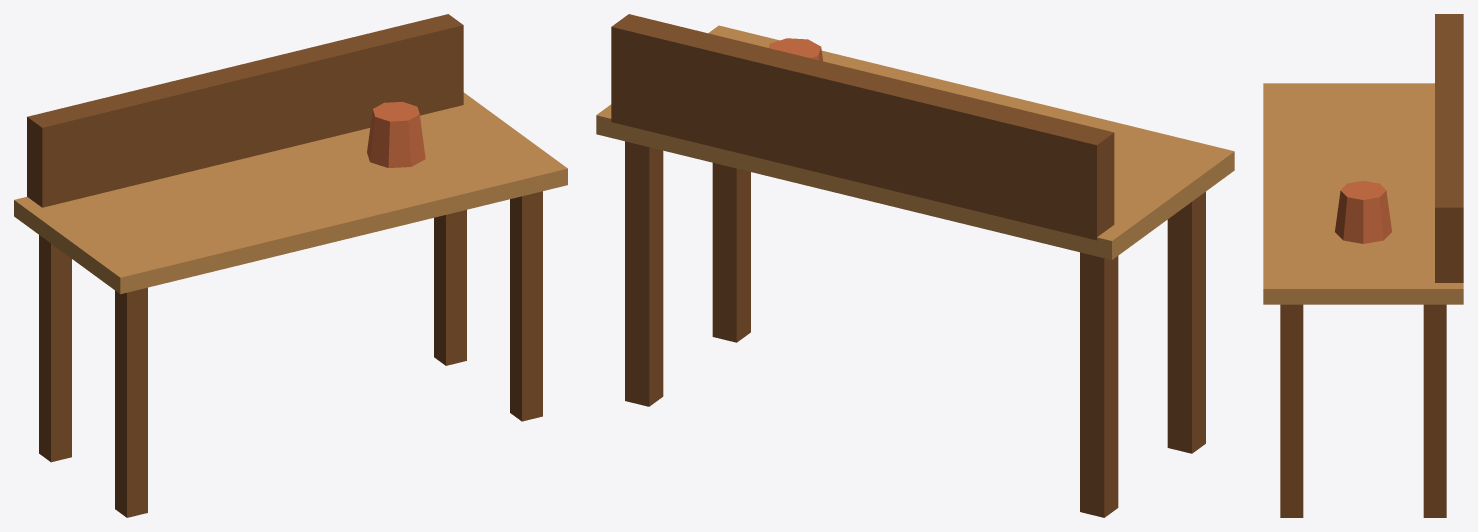
File: hydro_potting_bench.glb
3 renders of one model, left to right at view 1: azimuth 30°, elevation 25°; view 2: azimuth 150°, elevation 25°; view 3: azimuth 270°, elevation 25°, orthographic. The views are drawn at different scales.
Parts seen in each view (by area): view 1: potting_bench; view 2: potting_bench; view 3: potting_bench.
Boxes of the visible parts, <box> form: potting_bench: <box>14,14,567,517</box>; potting_bench: <box>596,14,1234,517</box>; potting_bench: <box>1263,14,1463,517</box>.
Bounding box in the file's own units: 1.7 × 1.2 × 0.7.
